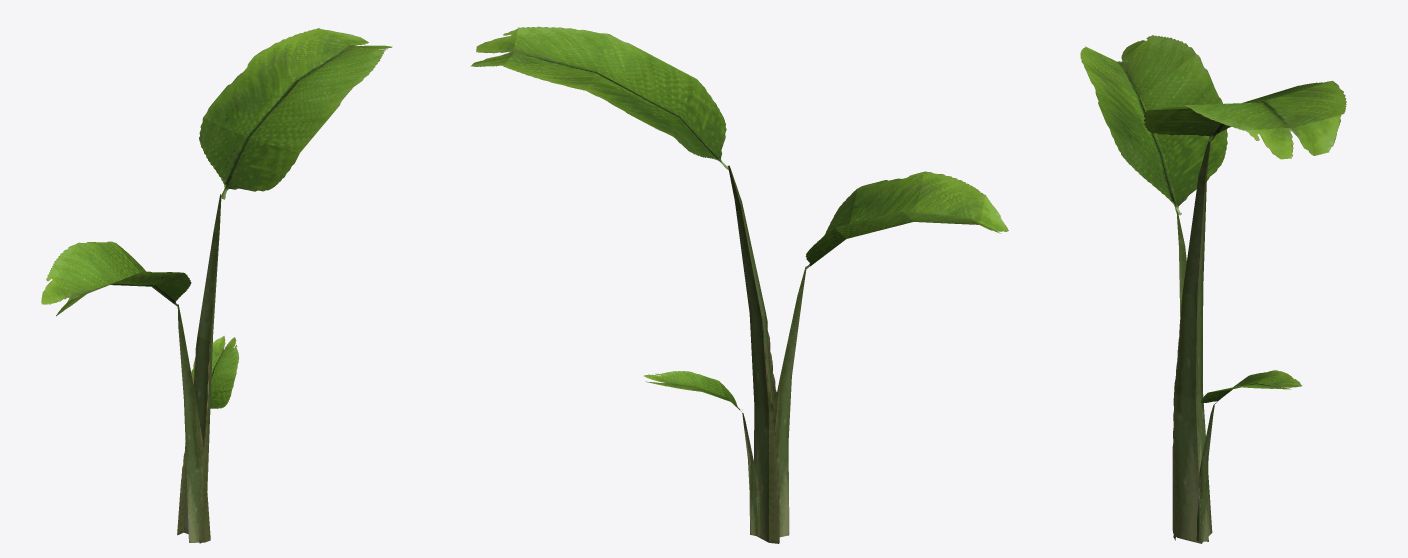
Rendered from Bird_of_paradise_cluster_2.fbx.
3 renders of one model, left to right at view 1: azimuth 30°, elevation 25°; view 2: azimuth 150°, elevation 25°; view 3: azimuth 270°, elevation 25°, orthographic. The views are drawn at different scales.
Parts seen in each view (by area): view 1: Bird_of_paradise_cluster_2; view 2: Bird_of_paradise_cluster_2; view 3: Bird_of_paradise_cluster_2.
Boxes of the visible parts, box(x1,y1,x2,y2) form: Bird_of_paradise_cluster_2: box(41, 28, 392, 543); Bird_of_paradise_cluster_2: box(470, 26, 1008, 543); Bird_of_paradise_cluster_2: box(1080, 35, 1346, 543).
Size of the model in its own units: 146 by 136 by 78.55.
Materials: 1 (1 with a texture image).
